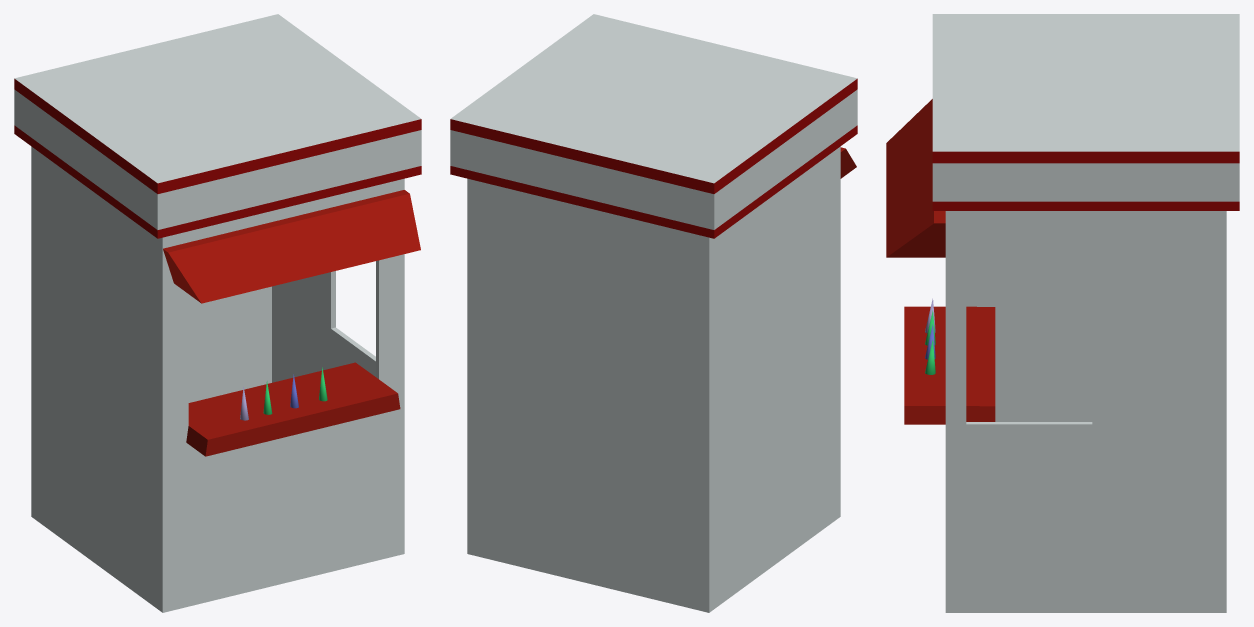
File: guiche.fbx
3 renders of one model, left to right at view 1: azimuth 30°, elevation 25°; view 2: azimuth 150°, elevation 25°; view 3: azimuth 270°, elevation 25°, orthographic. The views are drawn at different scales.
Parts seen in each view (by area): view 1: Cube.001; view 2: Cube.001; view 3: Cube.001.
Part boxes in pixels (x1=…): Cube.001: x1=14, y1=14, x2=421, y2=612; Cube.001: x1=450, y1=14, x2=857, y2=612; Cube.001: x1=886, y1=14, x2=1239, y2=612.
Bounding box in the file's own units: 405 × 640 × 439.
